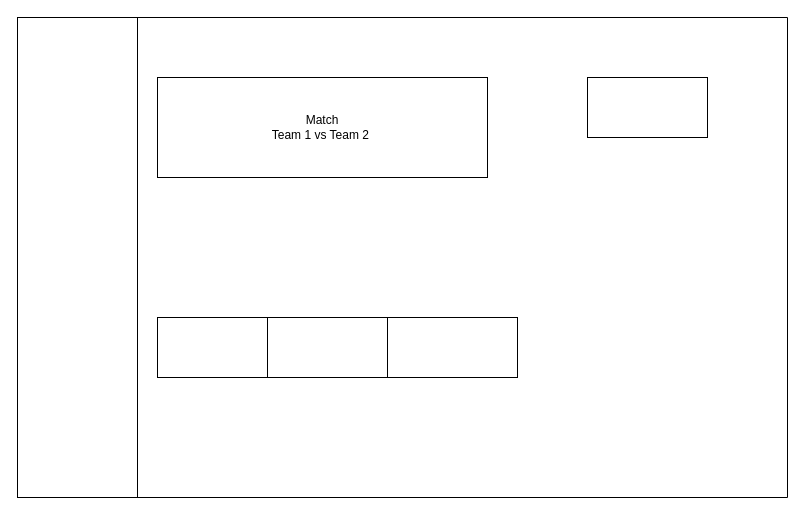
The diagram is 805 pixels wide and 515 high, and some of its shapes have lost their labels. The shapes that lost their labels are listed below. From the top down, each one's centre as x and y in pixels, then its label:
At (647,107): "Toss".
At (77,257): "Match Dashboard".
